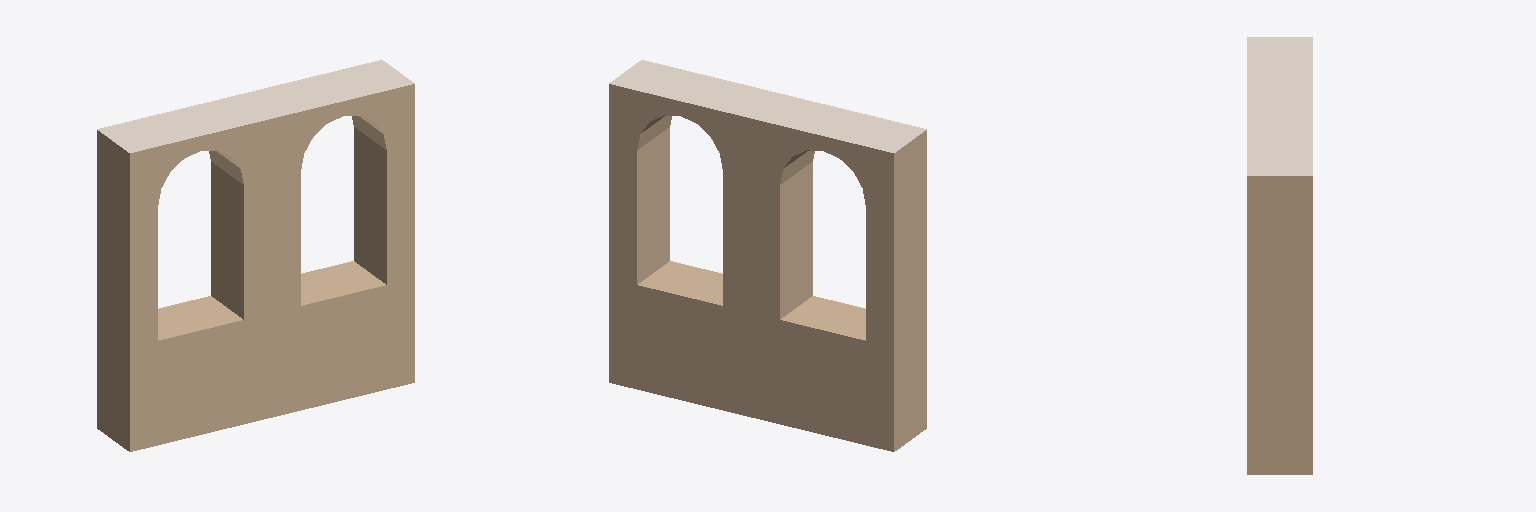
The model's file is Wall_Straight_Windows.obj.
The picture shows the model from 3 angles: view 1: azimuth 30°, elevation 25°; view 2: azimuth 150°, elevation 25°; view 3: azimuth 270°, elevation 25°; orthographic projection.
Visible parts, largest first — view 1: object1; view 2: object1; view 3: object1.
Boxes of the visible parts, box(x1,y1,x2,y2) form: object1: box(97, 60, 414, 451); object1: box(609, 60, 926, 451); object1: box(1247, 37, 1312, 474).
Size of the model in its own units: 1 by 1 by 0.2.